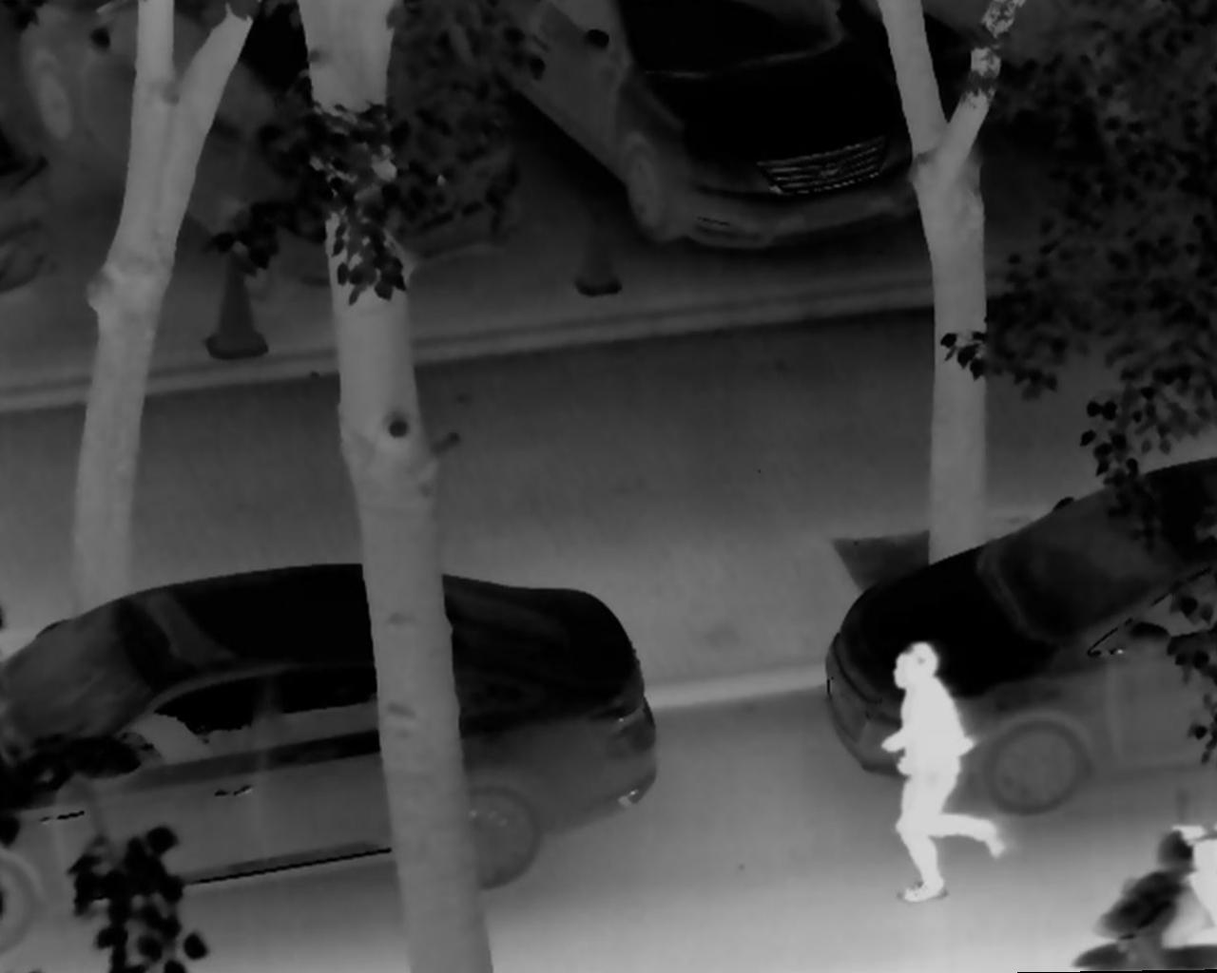person: (867, 639, 1009, 906), (1172, 796, 1217, 930)
